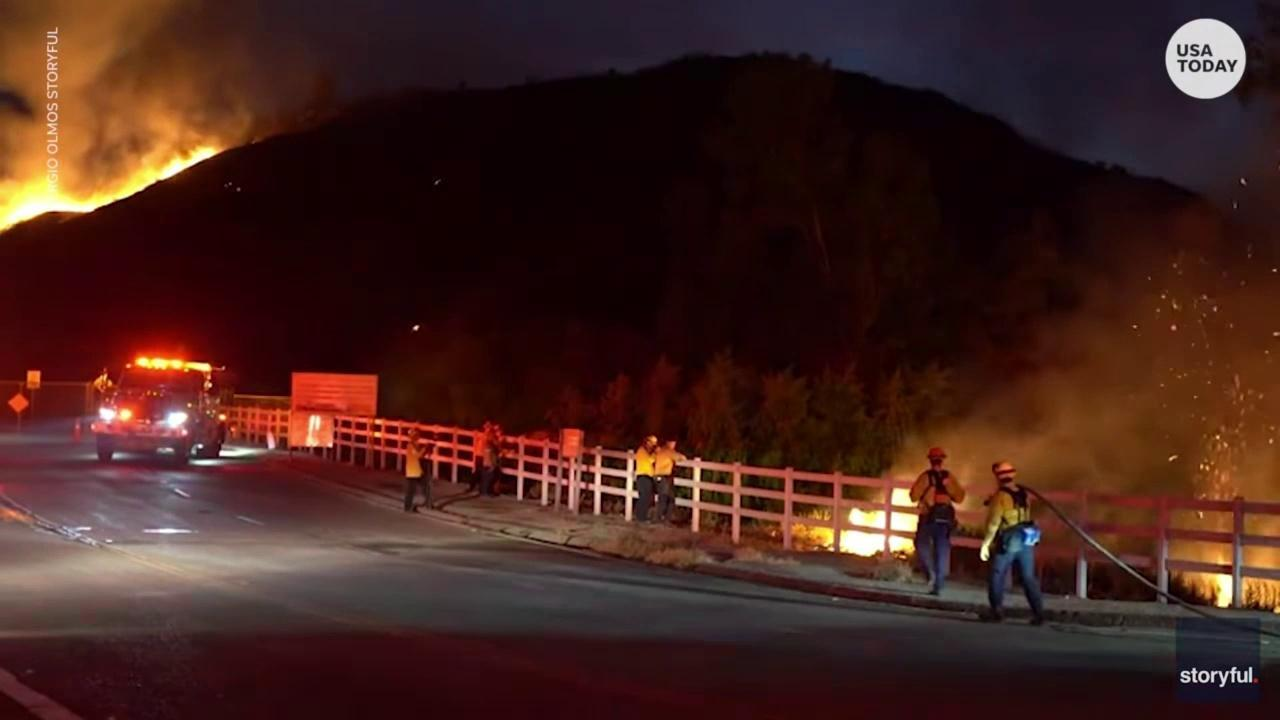fire: (0, 147, 221, 233), (824, 487, 920, 558), (1212, 560, 1235, 609), (411, 324, 420, 331)
smoke: (889, 194, 1280, 608), (0, 0, 344, 198)
